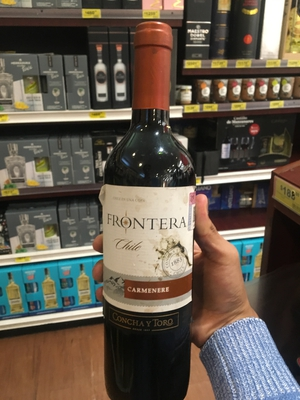frontera carmenere: (86, 20, 196, 400)
